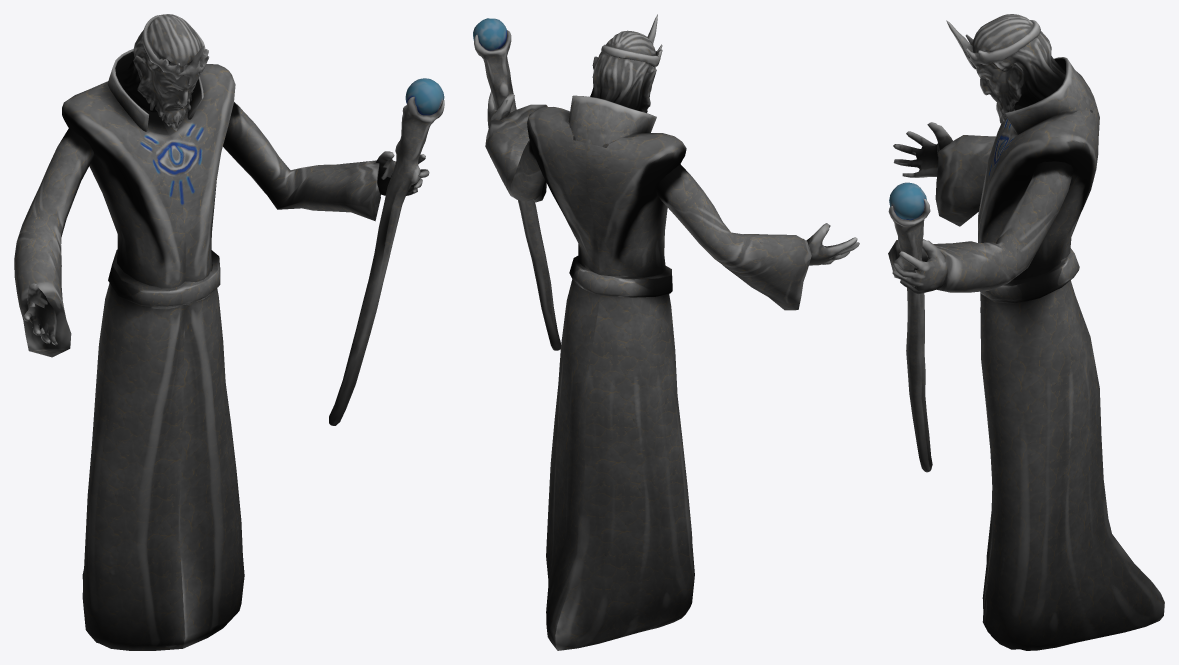
The model's file is Updated Statue 2.fbx.
3 views of the same model, side by side, from view 1: azimuth 30°, elevation 25°; view 2: azimuth 150°, elevation 25°; view 3: azimuth 270°, elevation 25° (orthographic). The views are drawn at different scales.
Visible parts, largest first — view 1: Statue_2; view 2: Statue_2; view 3: Statue_2.
Boxes of the visible parts, x1,y1,x2,y2 form: Statue_2: (14, 14, 444, 650); Statue_2: (473, 14, 859, 650); Statue_2: (888, 14, 1164, 650).
Bounding box in the file's own units: 11.24 × 16.12 × 6.62.
